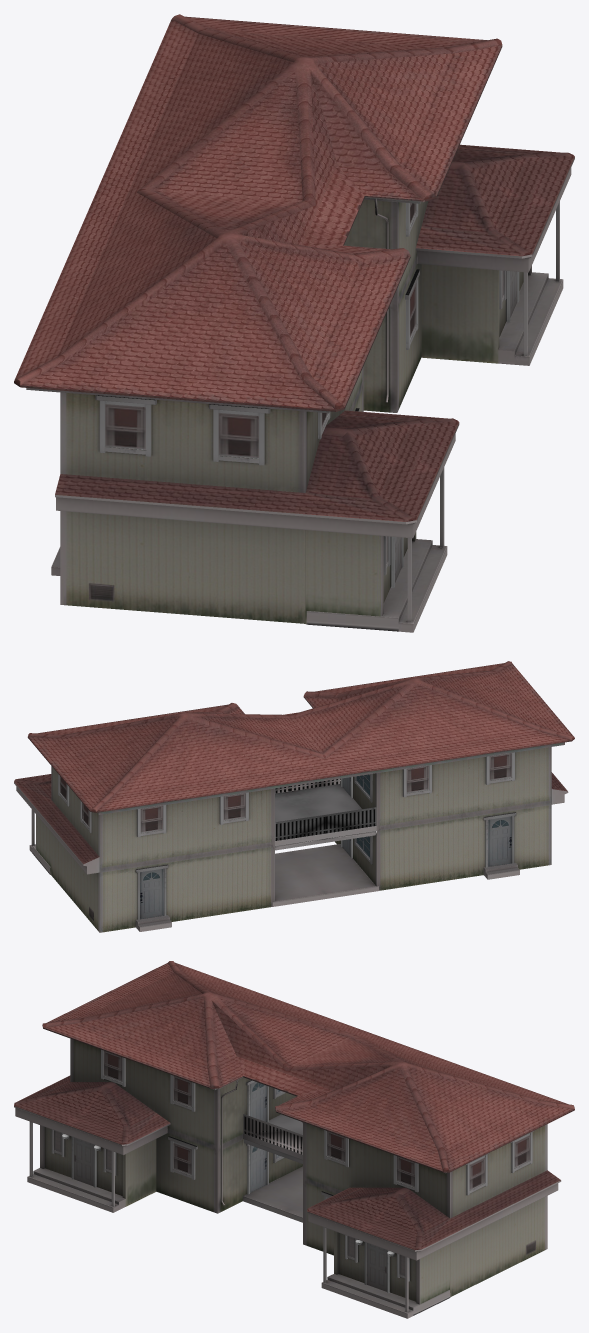
3 views of the same model, one above another, from view 1: azimuth 30°, elevation 25°; view 2: azimuth 150°, elevation 25°; view 3: azimuth 270°, elevation 25° (orthographic). The views are drawn at different scales.
Visible parts, largest first — view 1: City_building_052; view 2: City_building_052; view 3: City_building_052.
Boxes of the visible parts, x1,y1,x2,y2 form: City_building_052: [14, 14, 574, 632]; City_building_052: [14, 661, 574, 932]; City_building_052: [14, 961, 574, 1318].
Bounding box in the file's own units: 2406 × 2554 × 895.
Materials: 1 (1 with a texture image).
